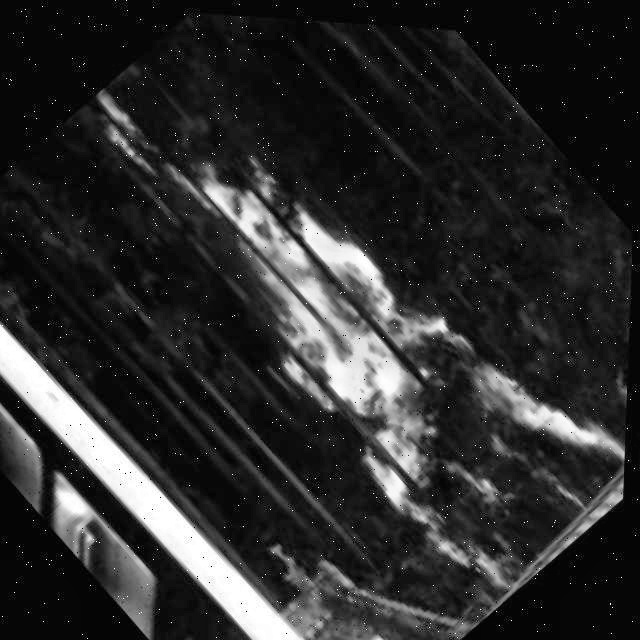Fire: (52, 4, 640, 605)
